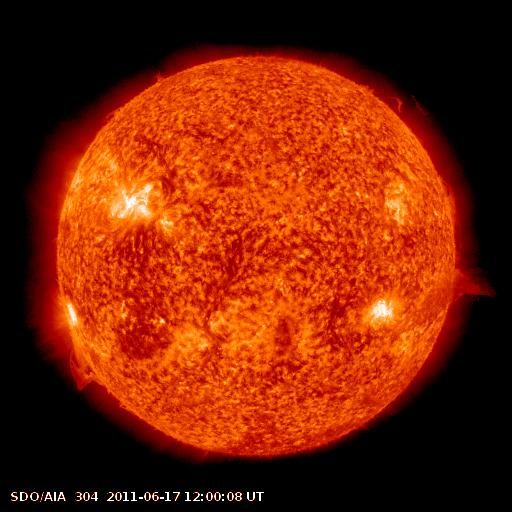prominence: (431, 256, 499, 316), (359, 75, 438, 126), (62, 335, 100, 397), (438, 169, 460, 225)
